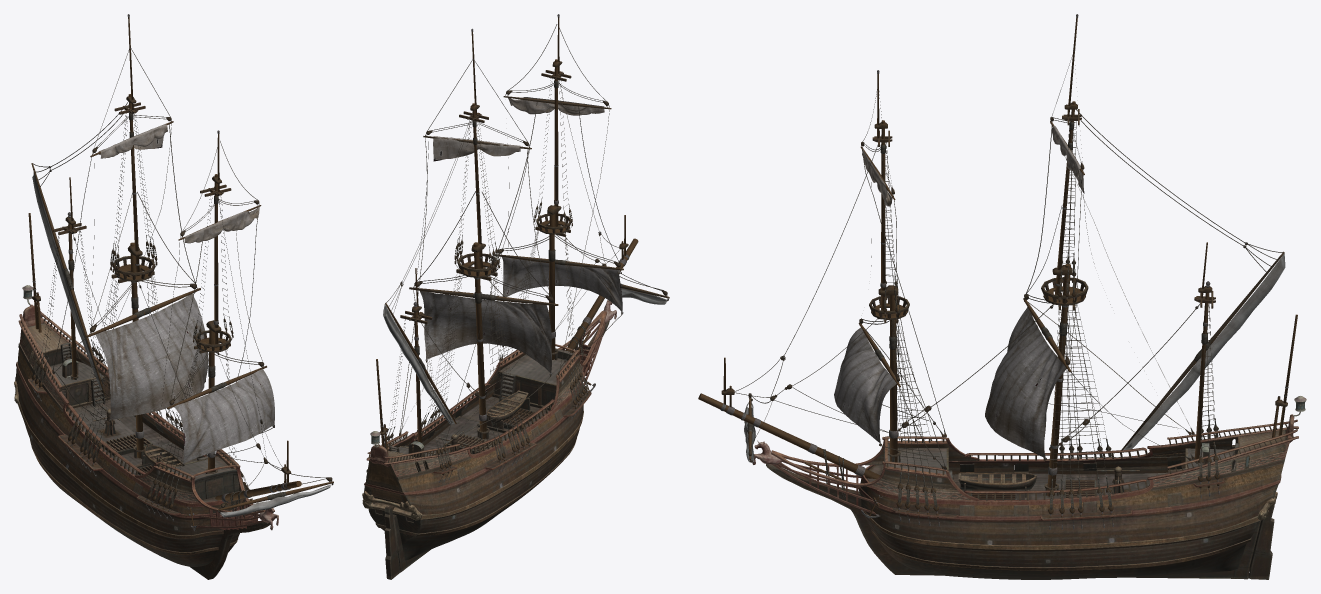
The model's file is dutch_ship_medium.fbx.
The picture shows the model from 3 angles, left to right: view 1: azimuth 30°, elevation 25°; view 2: azimuth 150°, elevation 25°; view 3: azimuth 270°, elevation 25°; orthographic projection. The views are drawn at different scales.
Parts seen in each view (by area): view 1: hull, rigging, sails; view 2: hull, rigging, sails; view 3: hull, rigging, sails.
Boxes of the visible parts, left/top/right/bottom form: hull: left=14, top=285, right=278, bottom=579; rigging: left=28, top=14, right=333, bottom=531; sails: left=95, top=124, right=274, bottom=462; hull: left=362, top=300, right=616, bottom=579; rigging: left=376, top=14, right=669, bottom=482; sails: left=420, top=97, right=622, bottom=372; hull: left=752, top=396, right=1306, bottom=579; rigging: left=698, top=14, right=1297, bottom=529; sails: left=834, top=126, right=1084, bottom=457.
Bounding box in the file's own units: 681 × 2466 × 2407.
